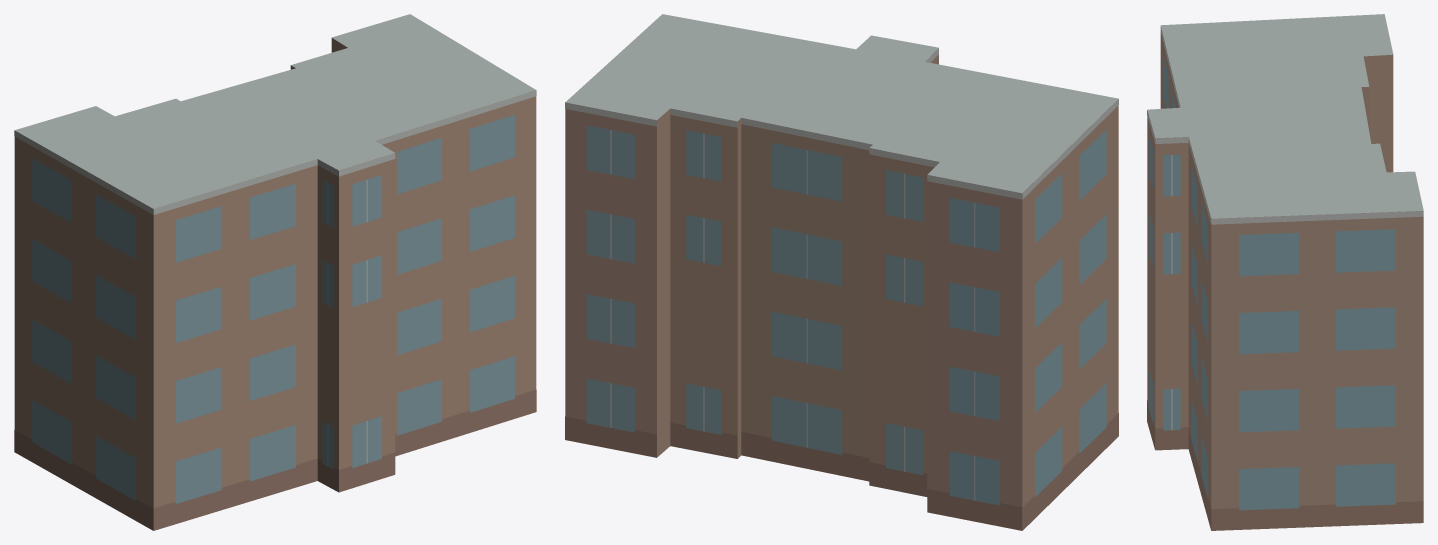
File: survey-upis-32755479.glb
The picture shows the model from 3 angles, left to right: view 1: azimuth 30°, elevation 25°; view 2: azimuth 150°, elevation 25°; view 3: azimuth 270°, elevation 25°; orthographic projection. The views are drawn at different scales.
Visible parts, largest first — view 1: survey-upis-32755479.tmp; view 2: survey-upis-32755479.tmp; view 3: survey-upis-32755479.tmp.
Boxes of the visible parts, x1=… form: survey-upis-32755479.tmp: x1=14, y1=14, x2=536, y2=530; survey-upis-32755479.tmp: x1=565, y1=14, x2=1118, y2=530; survey-upis-32755479.tmp: x1=1147, y1=14, x2=1423, y2=530.
Size of the model in its own units: 18.16 by 12.9 by 10.37.
